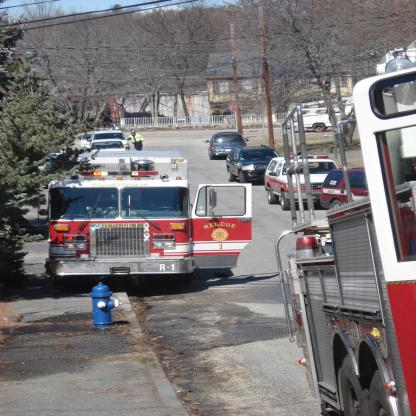Car: (262, 153, 338, 208), (321, 167, 370, 211), (228, 146, 281, 183), (201, 127, 252, 159), (90, 126, 135, 150), (89, 137, 125, 149)
Truck: (273, 45, 416, 414), (38, 155, 272, 290)
